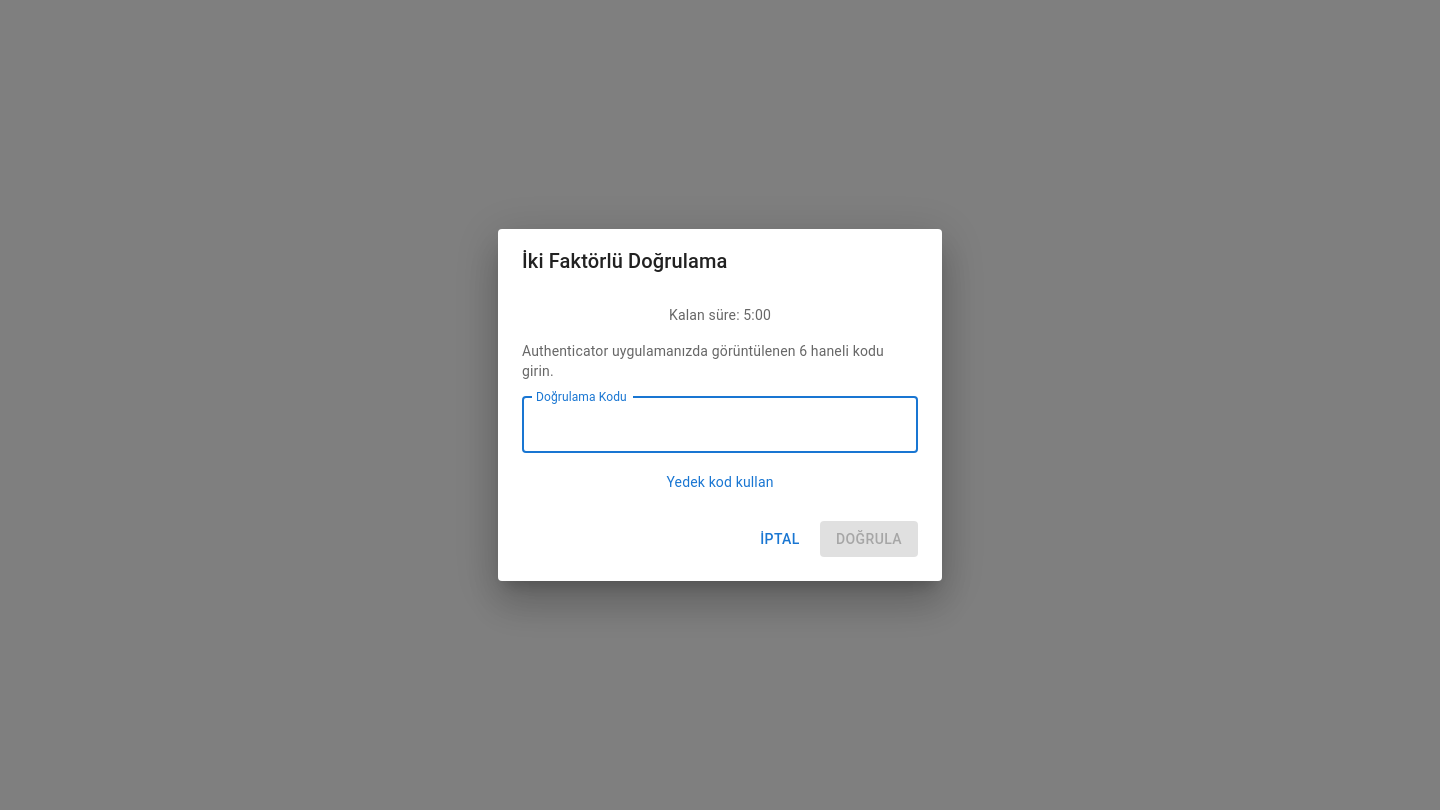
TwoFactorVerifyModal › switches to backup code input when toggle is clicked
This screenshot has width=1440, height=810.
Step 1. Click the button "Yedek kod kullan" → x=720, y=482, box left=666, top=472, right=774, bottom=492
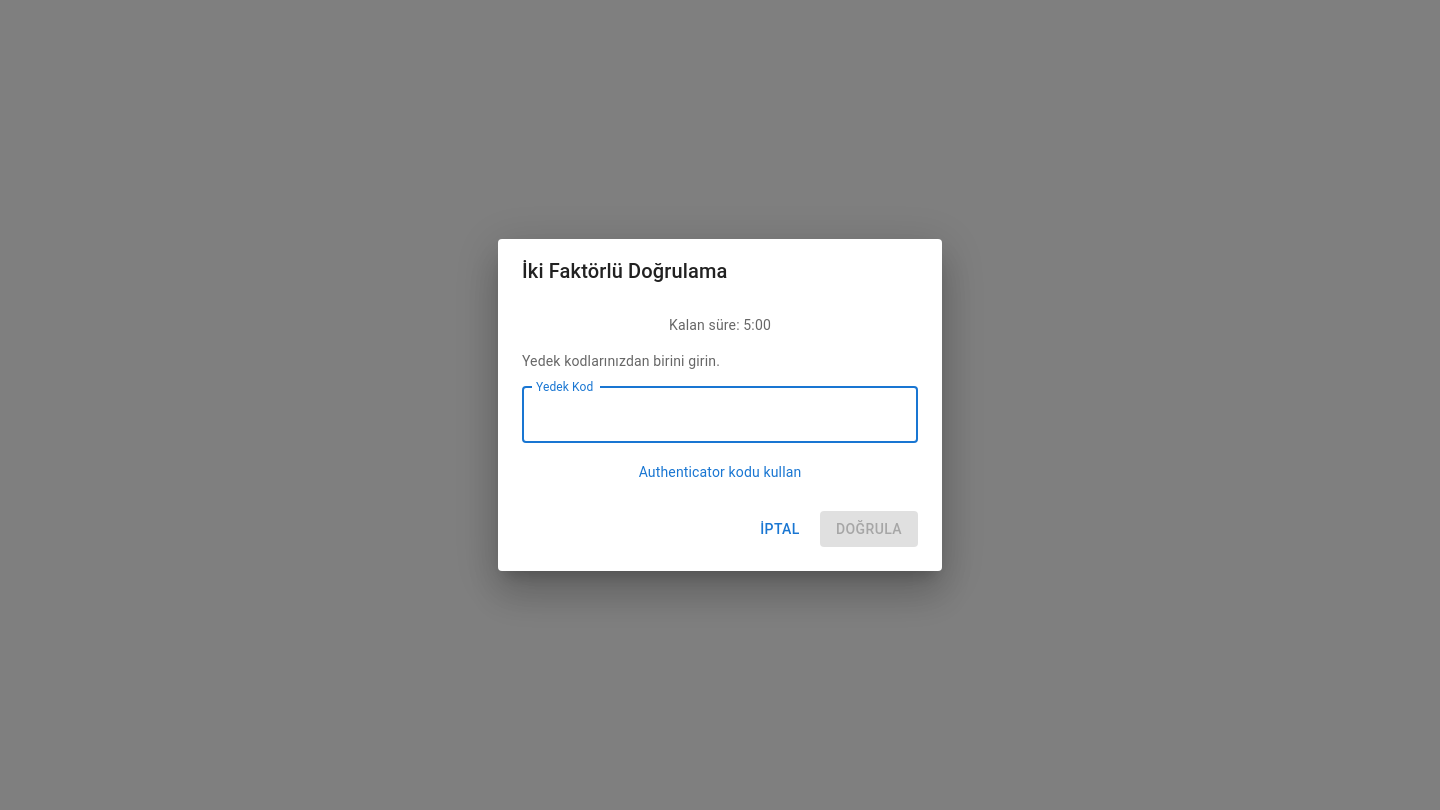
Now the field labelled "Yedek Kod" is shown, box left=522, top=387, right=918, bottom=443
Now the button "Authenticator kodu kullan" is shown, box left=639, top=462, right=801, bottom=482
